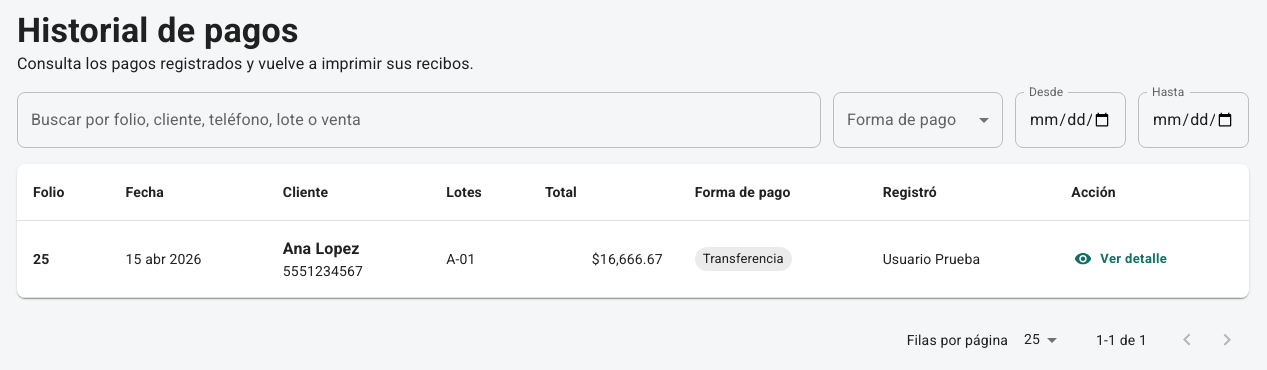
Test: PaymentHistoryPage › clears filters after they are applied
Expected: the text "Ana Lopez" is shown, left=283, top=239, right=360, bottom=258
Type "Ana" into the field labelled "Buscar por folio, cliente, teléfono, lote o venta" at (419, 120), box left=17, top=92, right=821, bottom=148
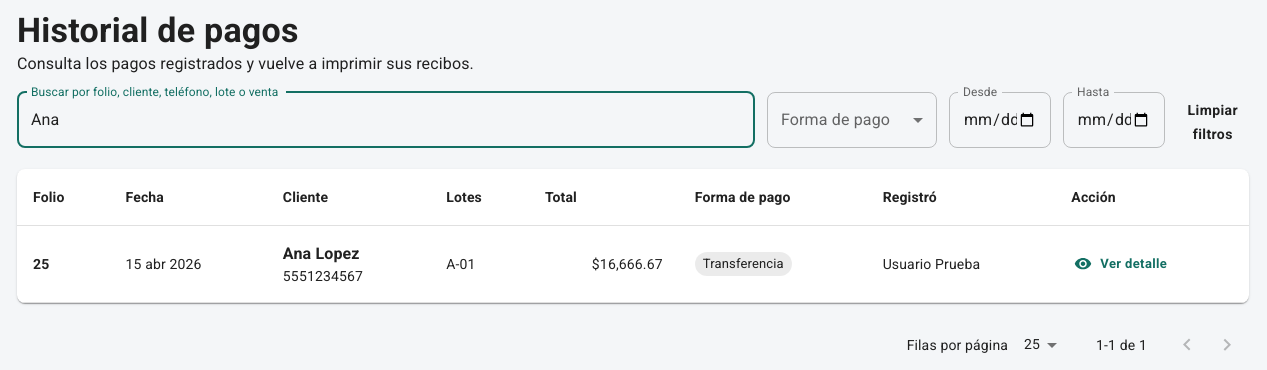
Expected: the button "Limpiar filtros" is shown
Click the button "Limpiar filtros" at (1213, 122), box left=1177, top=92, right=1249, bottom=153
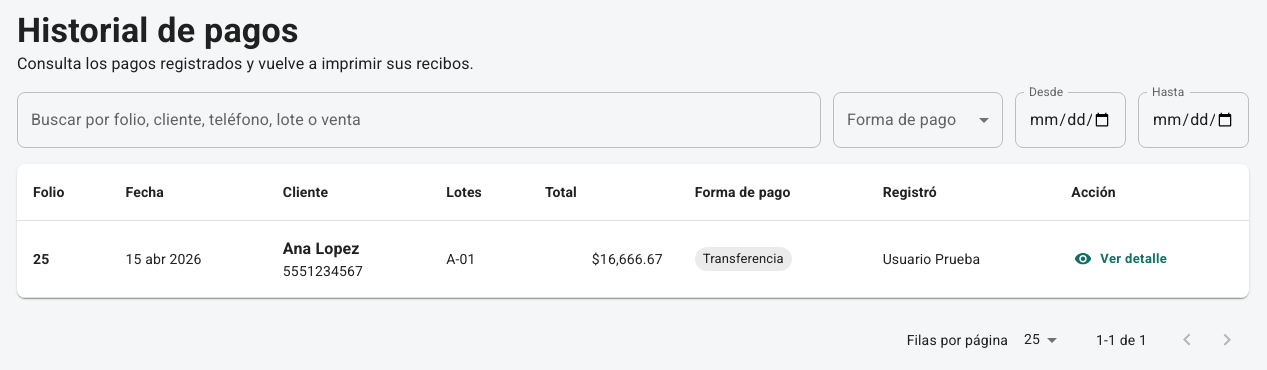
Expected: the field labelled "Buscar por folio, cliente, teléfono, lote o venta" is empty, left=17, top=92, right=821, bottom=148
